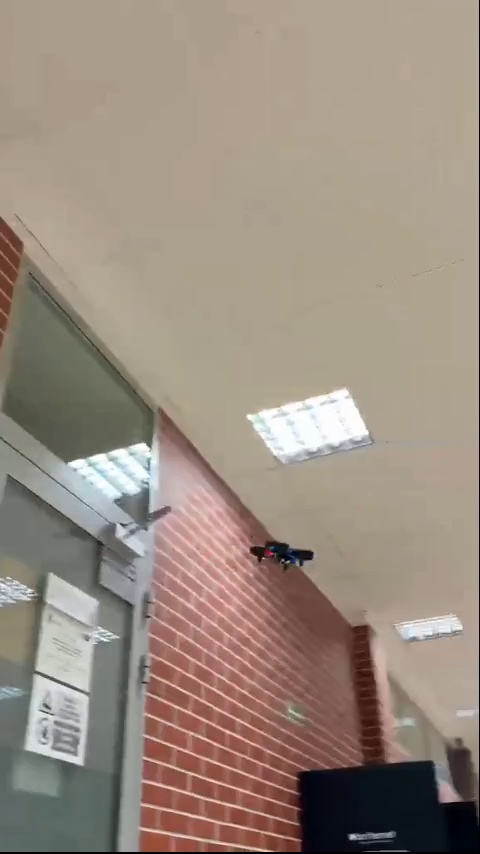drone: (248, 538, 313, 572)
